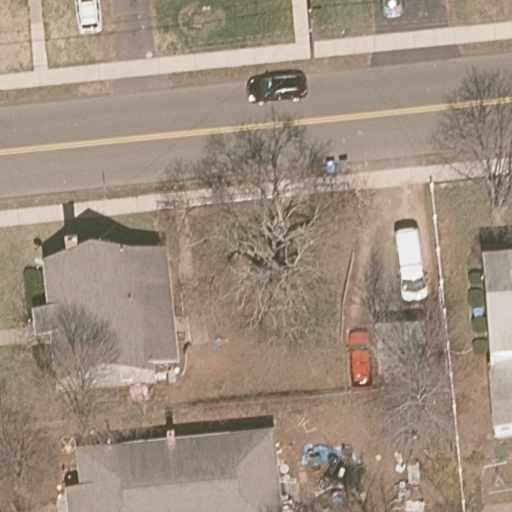DT: (304, 1, 316, 62)
